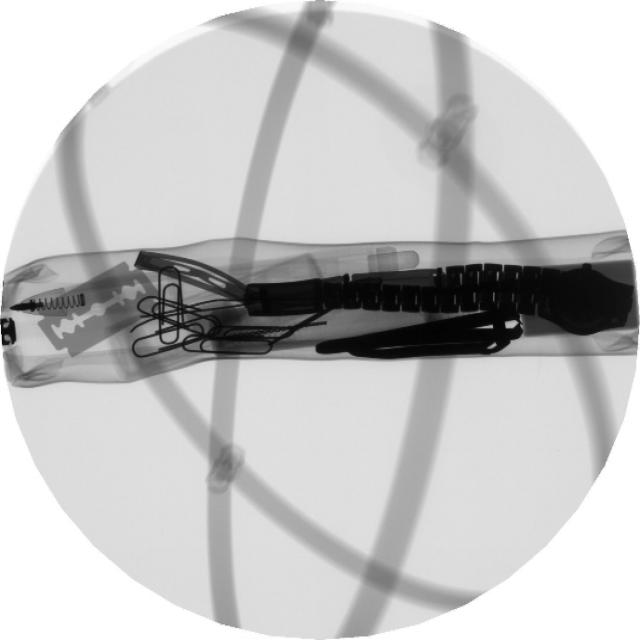BLADE: (33, 258, 152, 365)
